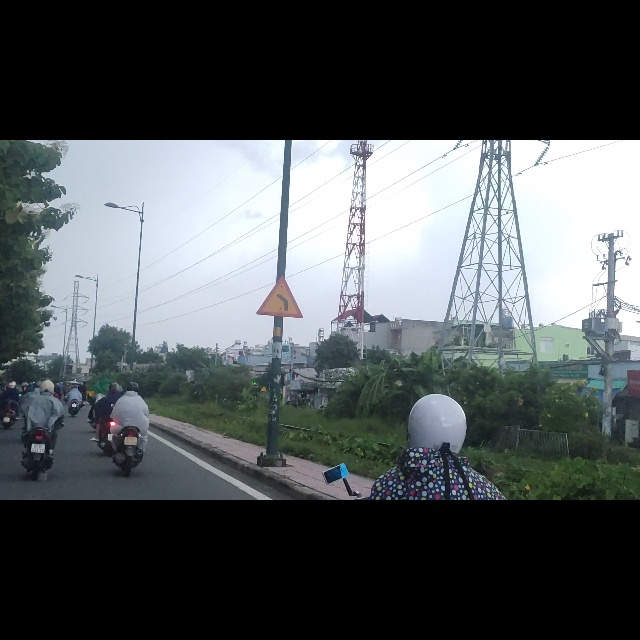bien_nguy_hiem: (257, 245, 304, 318)
